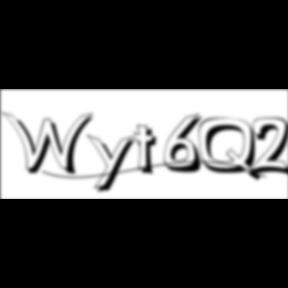6: (164, 112, 210, 176)
Q: (199, 117, 265, 184)
W: (1, 110, 99, 178)
t: (134, 124, 164, 179)
y: (87, 132, 141, 196)
